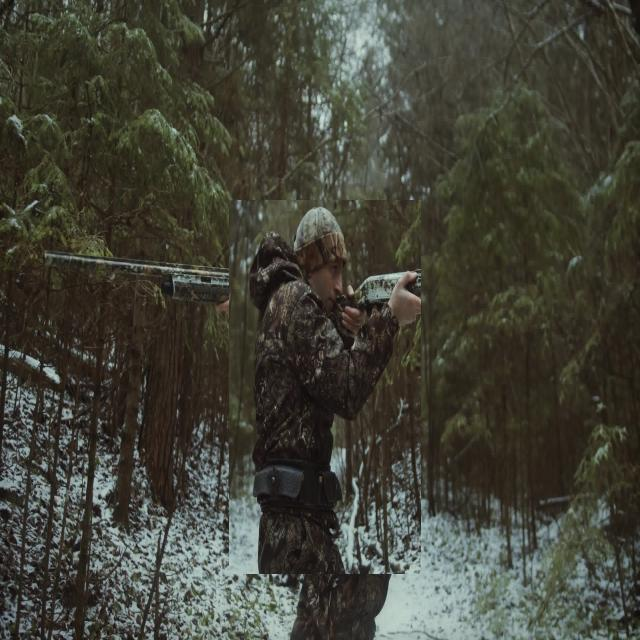poacher: (229, 200, 422, 574)
weapon: (43, 253, 294, 304)
